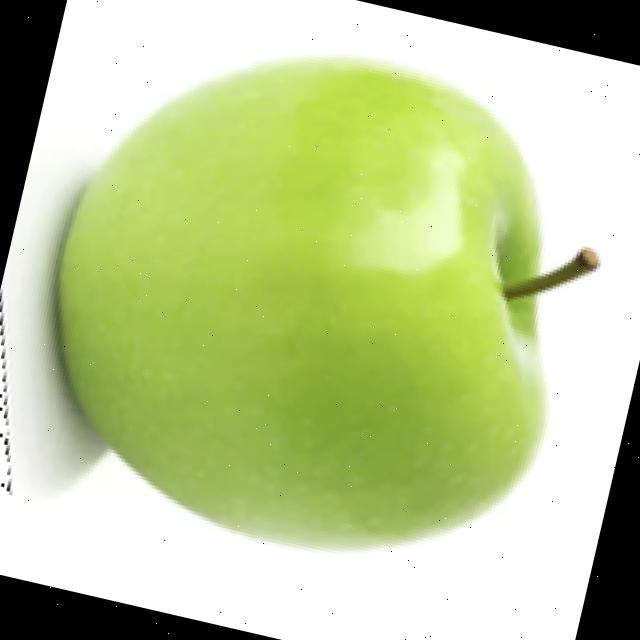apple: (0, 49, 604, 555)
